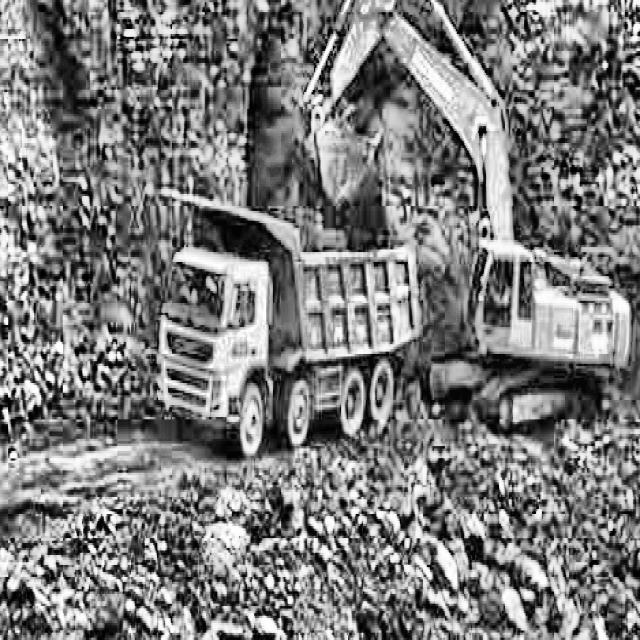dump_truck: (130, 185, 429, 448)
excavator: (305, 0, 640, 439)
